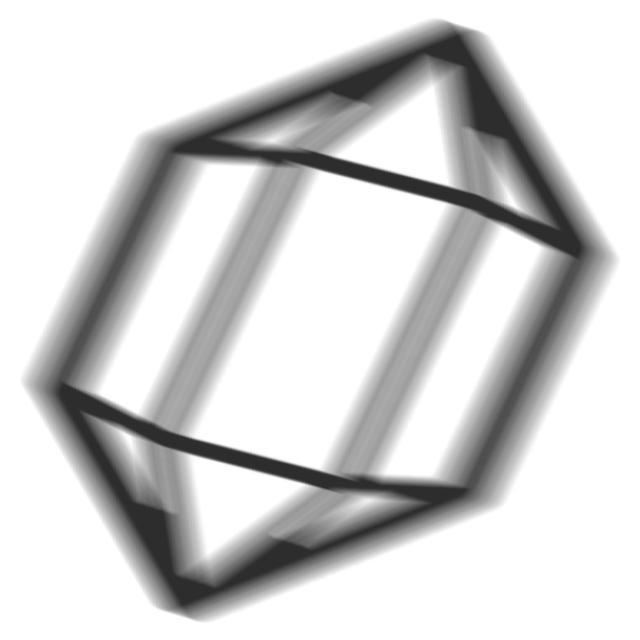crystal: (10, 11, 632, 626)
